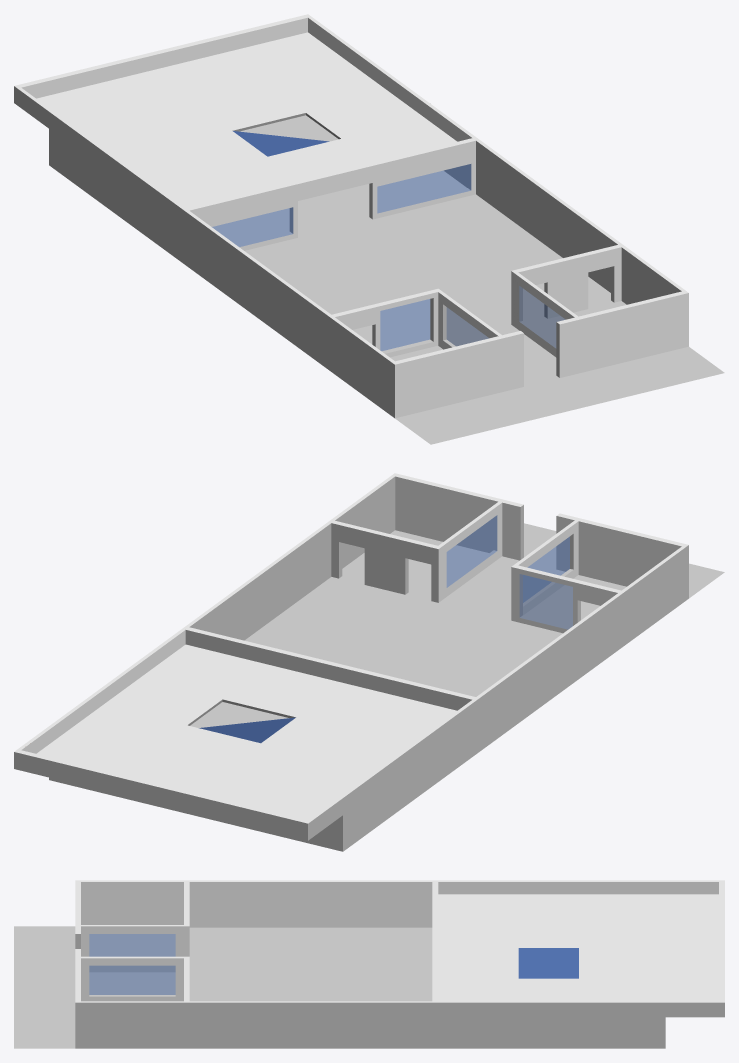
The model's file is centro comercialActualizadoSinProps.fbx.
3 renders of one model, top to bottom at view 1: azimuth 30°, elevation 25°; view 2: azimuth 150°, elevation 25°; view 3: azimuth 270°, elevation 25°, orthographic. The views are drawn at different scales.
Visible parts, largest first — view 1: Model; view 2: Model; view 3: Model.
Part boxes in pixels (left/top/right/bottom): Model: left=14, top=14, right=724, bottom=444; Model: left=14, top=473, right=724, bottom=851; Model: left=14, top=880, right=724, bottom=1048.
Bounding box in the file's own units: 63.04 × 11 × 155.
